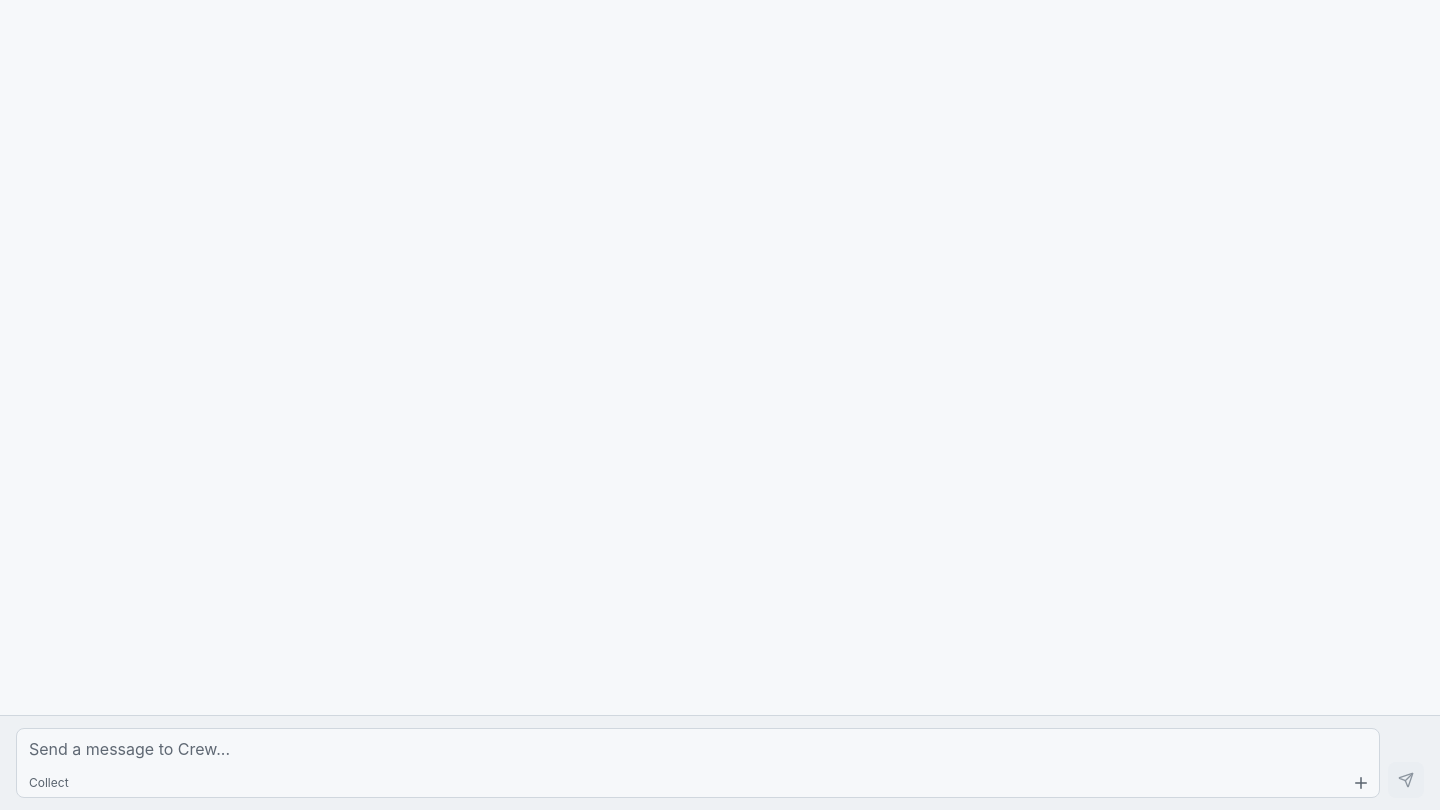
Test case: ⌘ memory popover — stale cold GET does not clobber a fresh write › keeps the new entry when the pre-write snapshot resolves after the write
The width and height of the screenshot is (1440, 810).
Click the button named "更多" at (1361, 783), box [1347,769,1375,797]
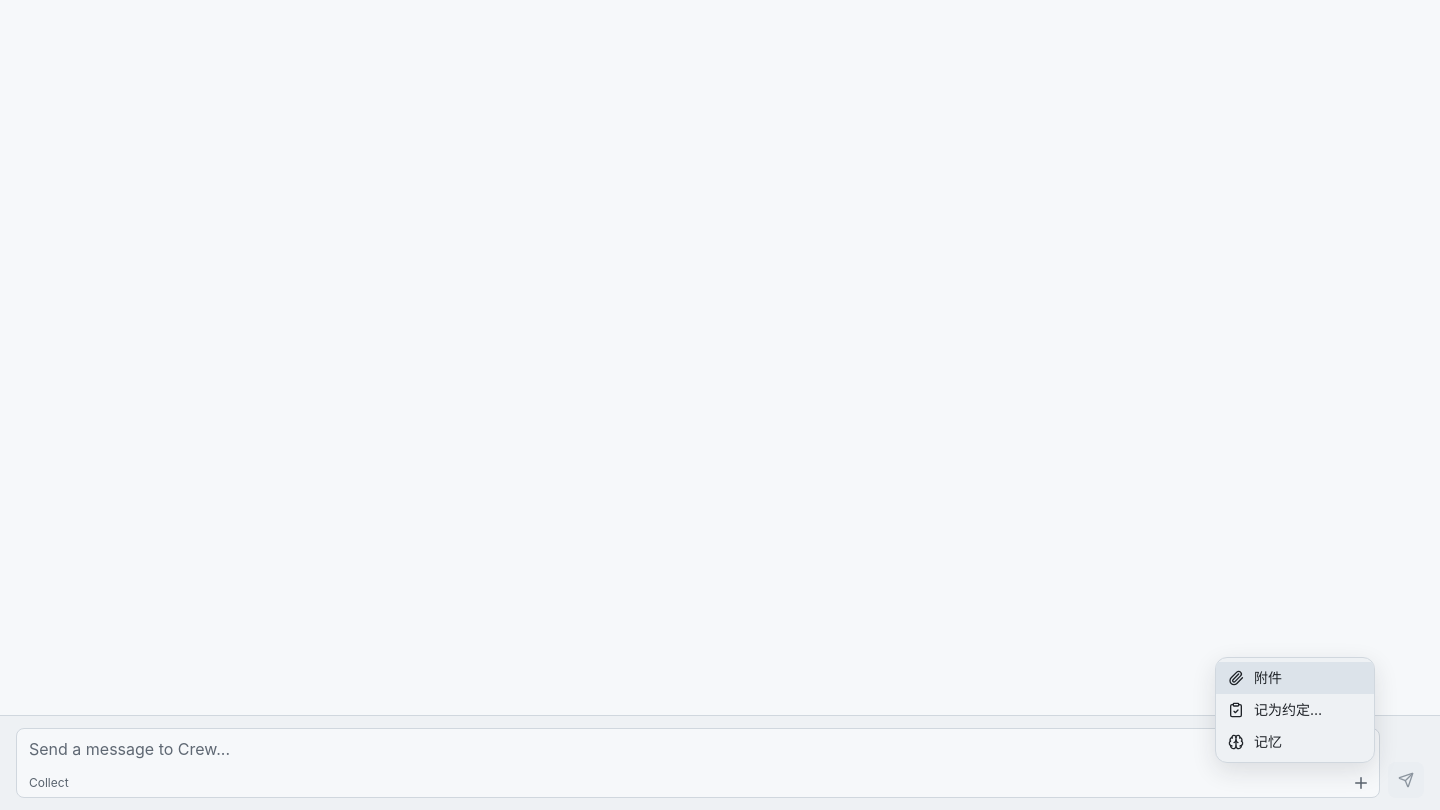
Click the menu item with aria-label "memory" at (1295, 742), box [1216,726,1374,758]
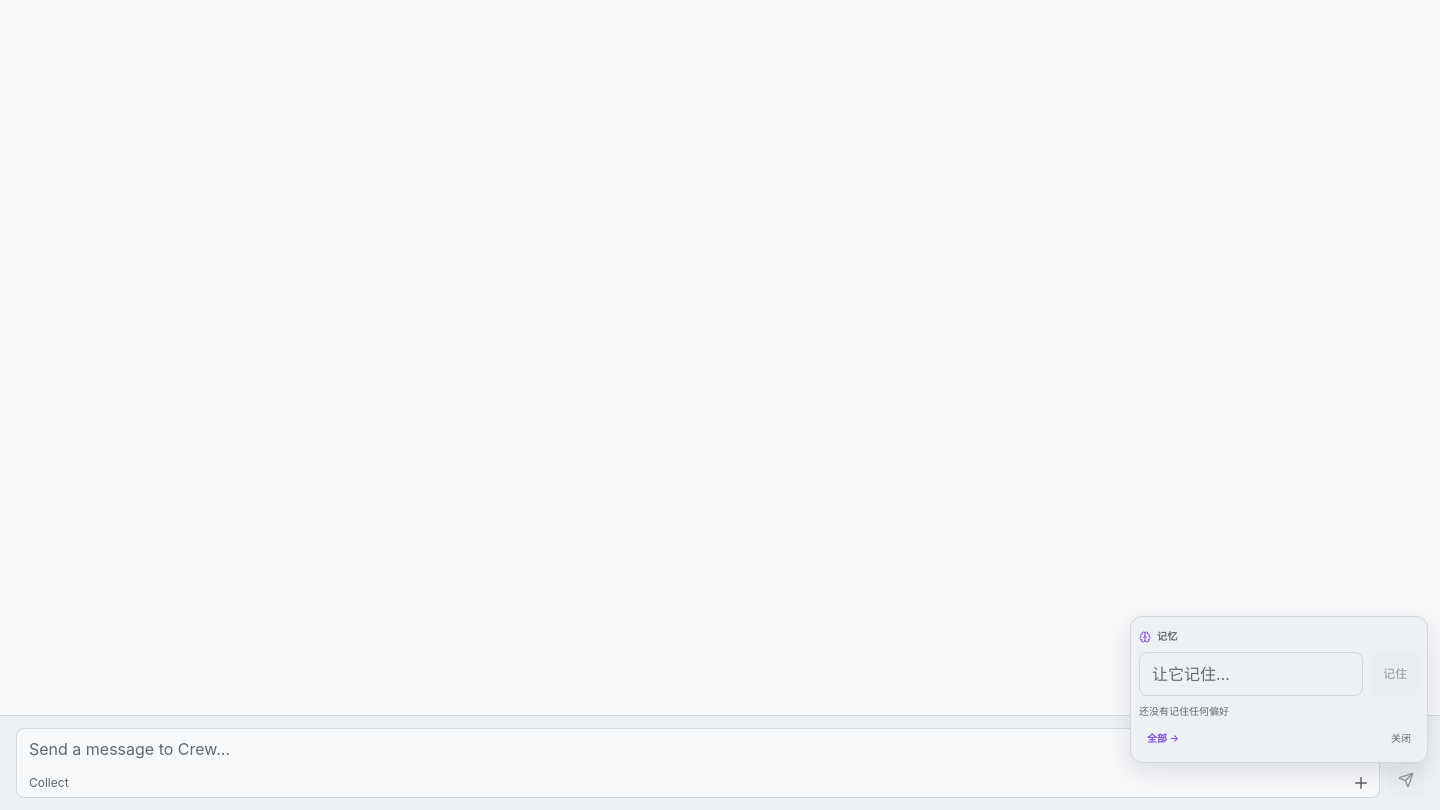
Type "pkg_manager = pnpm" into the field named "memory draft" at (1251, 674), box [1139,652,1363,696]
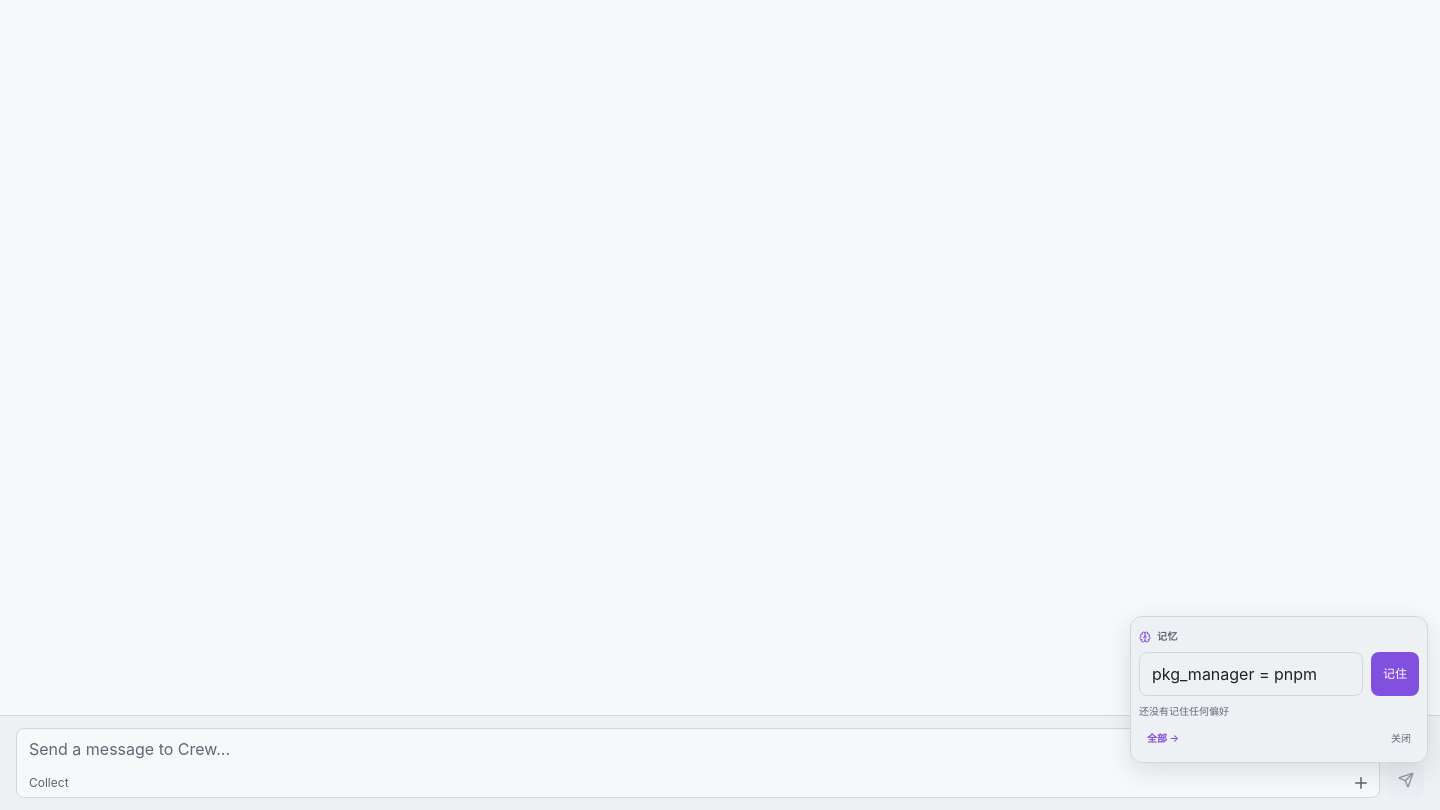
Click the button "记住" at (1395, 674), box [1371,652,1419,696]
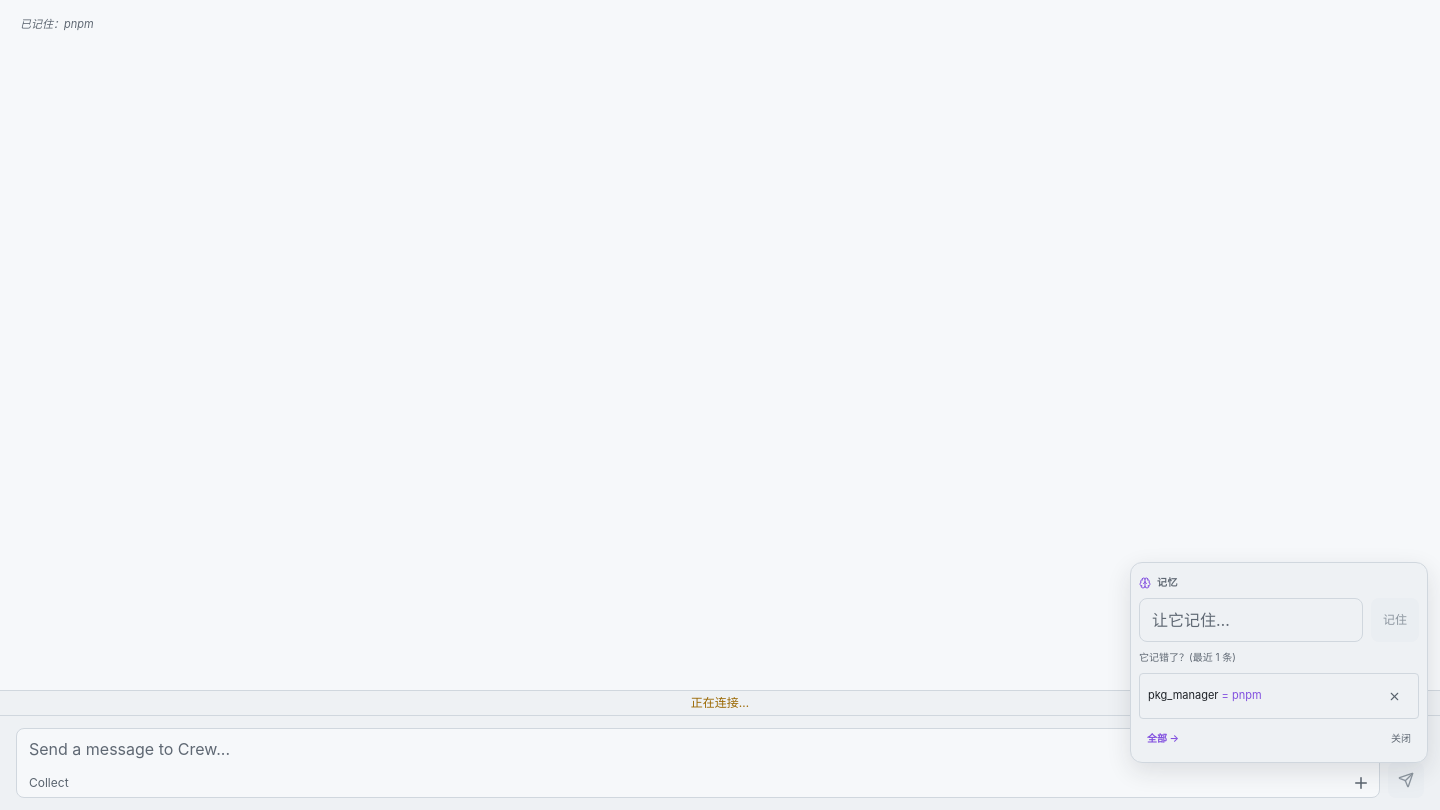
Check: the text "= pnpm" is shown, box [1218,688,1262,702]
Check: the text "还没有记住任何偏好" is gone
